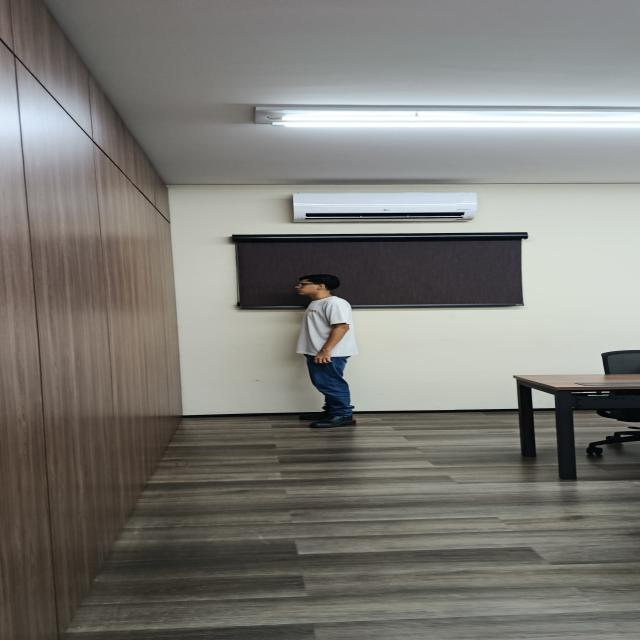oculos-epi: (298, 283, 320, 287)
